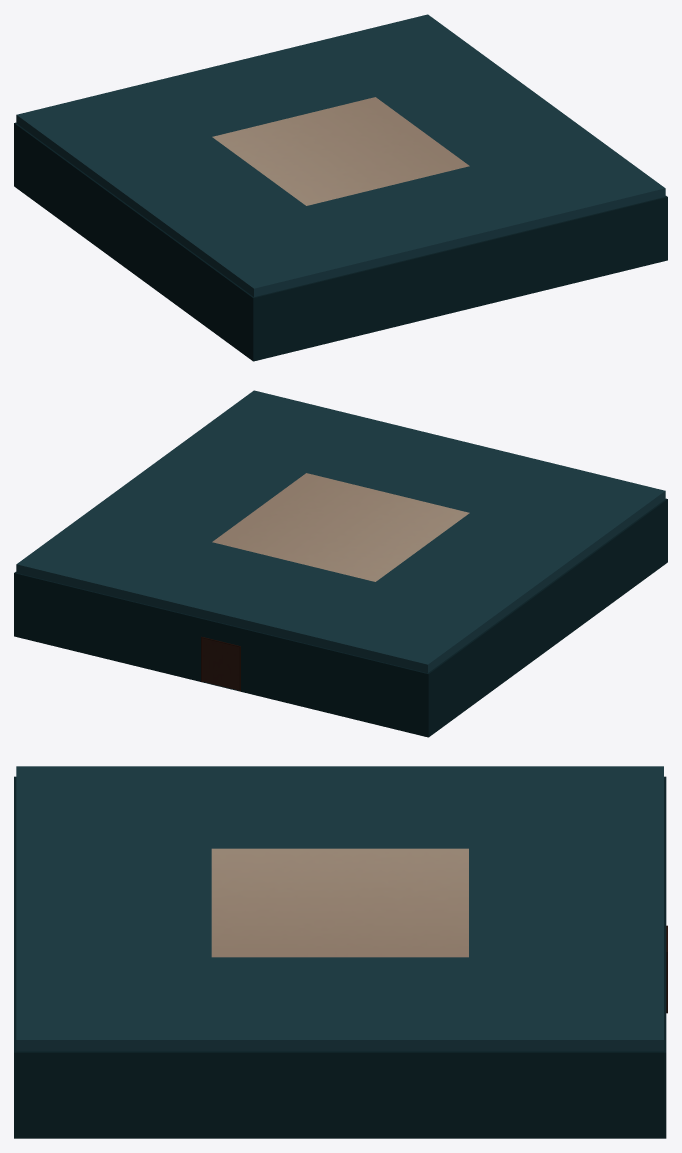
Rendered from planta-mindthedoor.fbx.
3 renders of one model, top to bottom at view 1: azimuth 30°, elevation 25°; view 2: azimuth 150°, elevation 25°; view 3: azimuth 270°, elevation 25°, orthographic. The views are drawn at different scales.
Visible parts, largest first — view 1: pCube126; view 2: pCube126; view 3: pCube126.
Part boxes in pixels (<box>): pCube126: <box>14,14,667,361</box>; pCube126: <box>14,390,667,737</box>; pCube126: <box>14,766,667,1138</box>.
Size of the model in its own units: 20.97 by 3.47 by 21.02.
